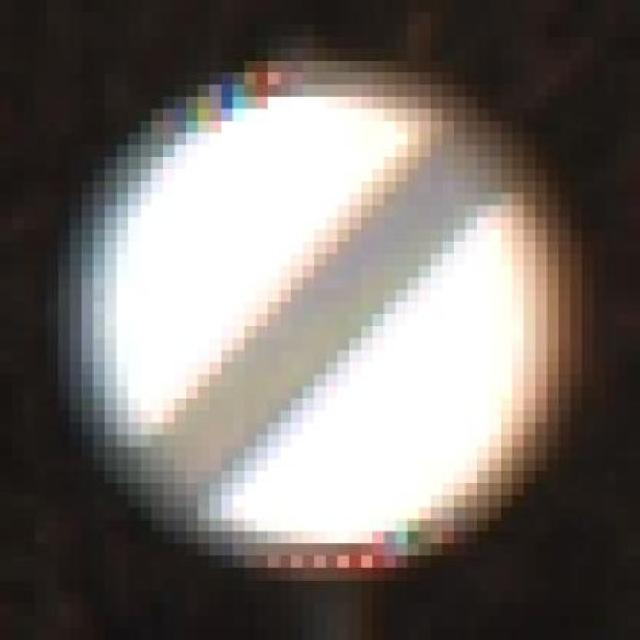End of all speed and passing limits: (58, 48, 594, 604)
